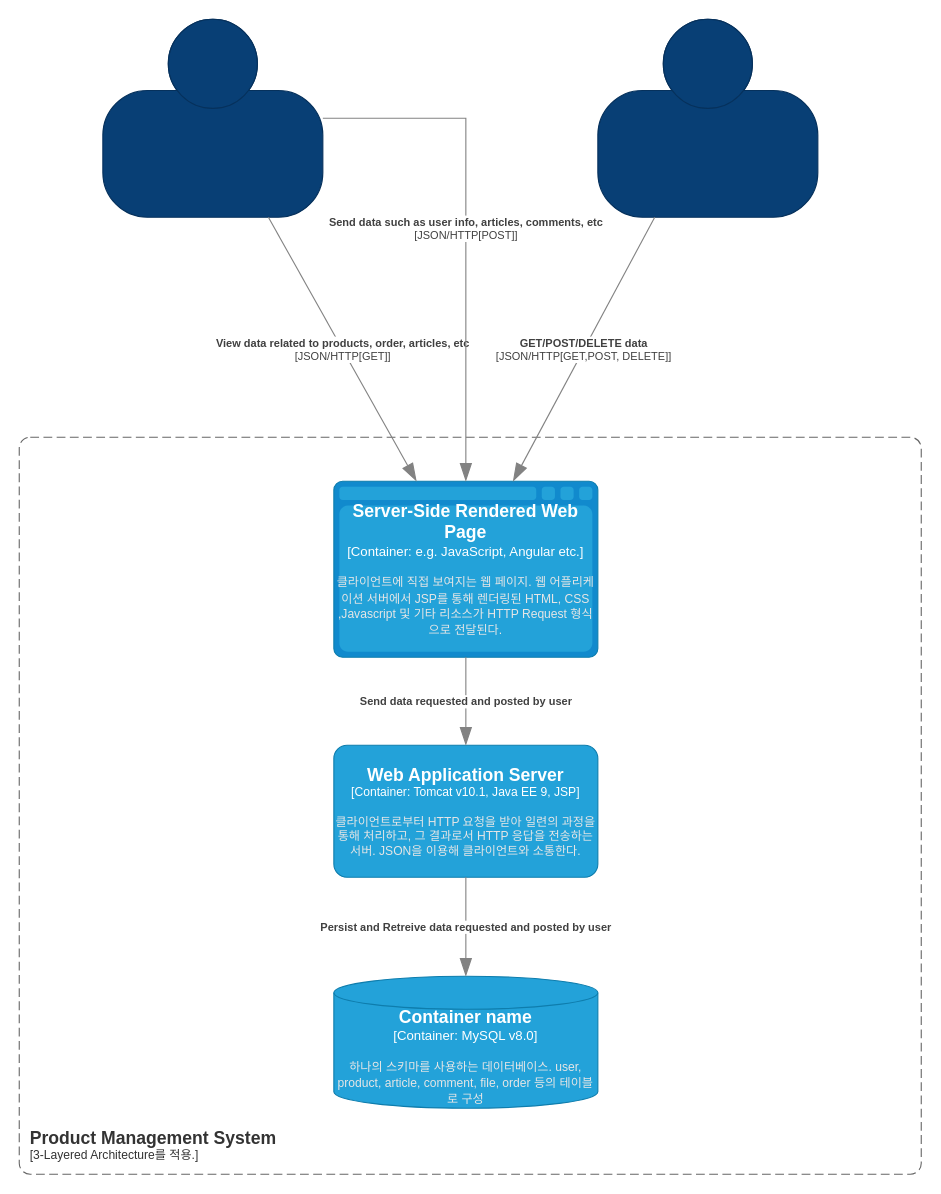
This 941x1194 diagram has some shape labels left out. The centre of each missing label's shape, as x and y in pixels:
관리자 [Person] 팜스토리 어플리케이션 관리자(admin): [707,117]
사용자 [Person] 팜스토리 어플리케이션을 사용하는 고객: [212,117]
